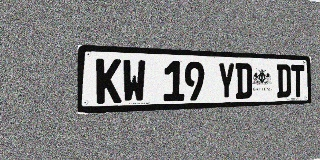1: (163, 60, 184, 101)
9: (185, 61, 204, 101)
D: (235, 63, 252, 99), (277, 64, 291, 98)
K: (96, 58, 121, 104)
T: (291, 65, 305, 97)
W: (122, 59, 146, 103)
Y: (217, 62, 235, 100)
